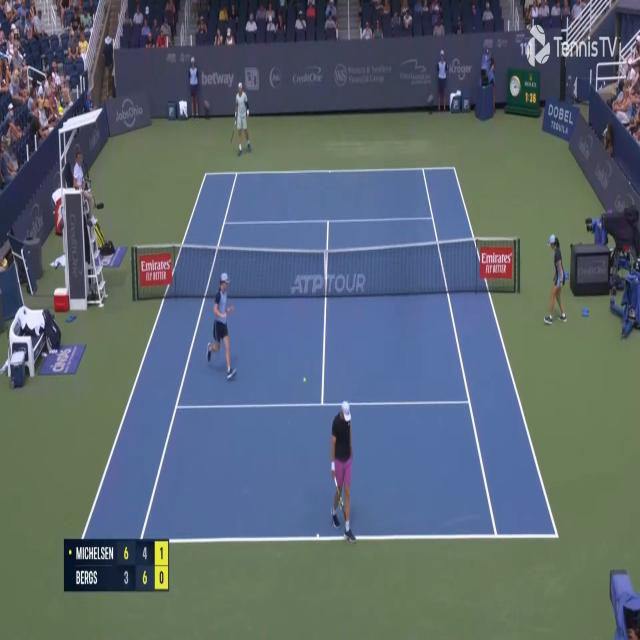tennis-player: (328, 399, 357, 546), (230, 79, 252, 156)
